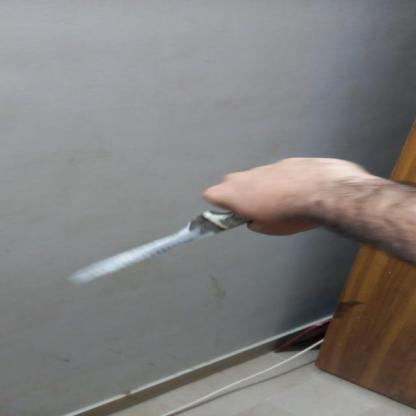Knife: (59, 206, 256, 282)
